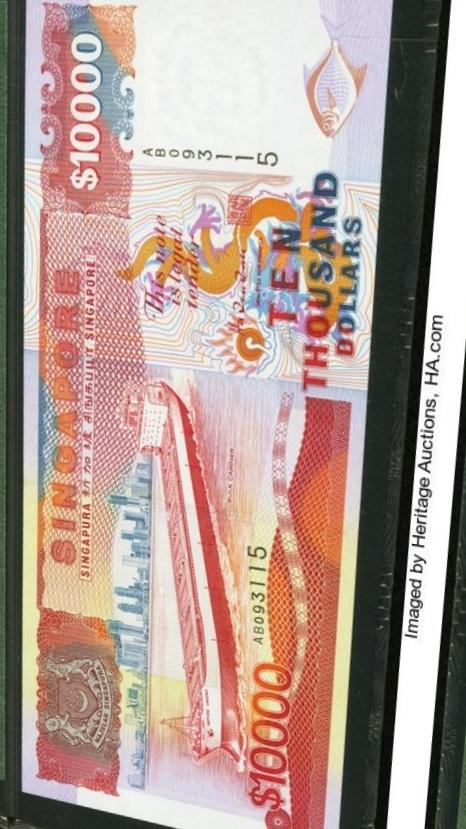10000SingaporeDollar: (25, 0, 382, 829)
